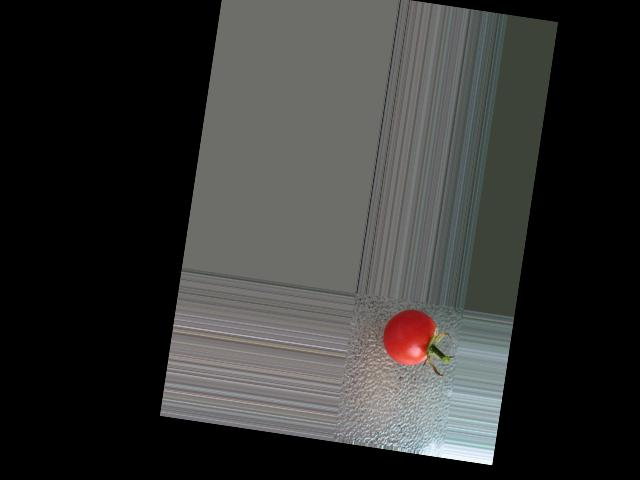tomato: (378, 306, 437, 369)
